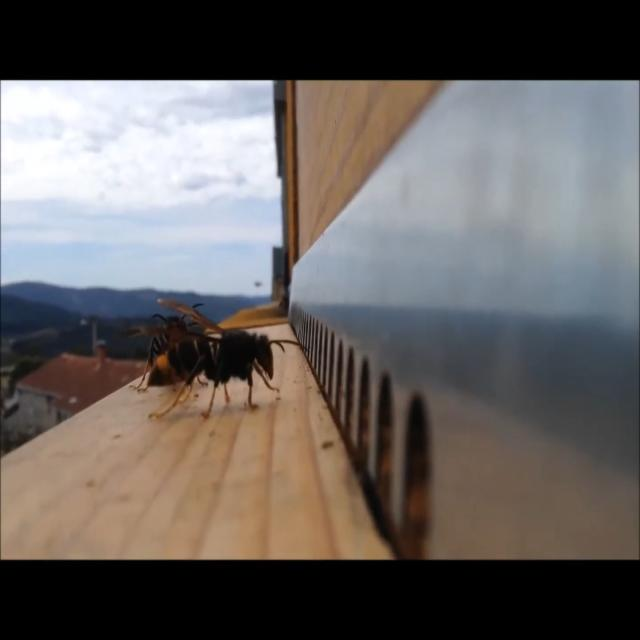Hornets: (136, 295, 308, 419)
